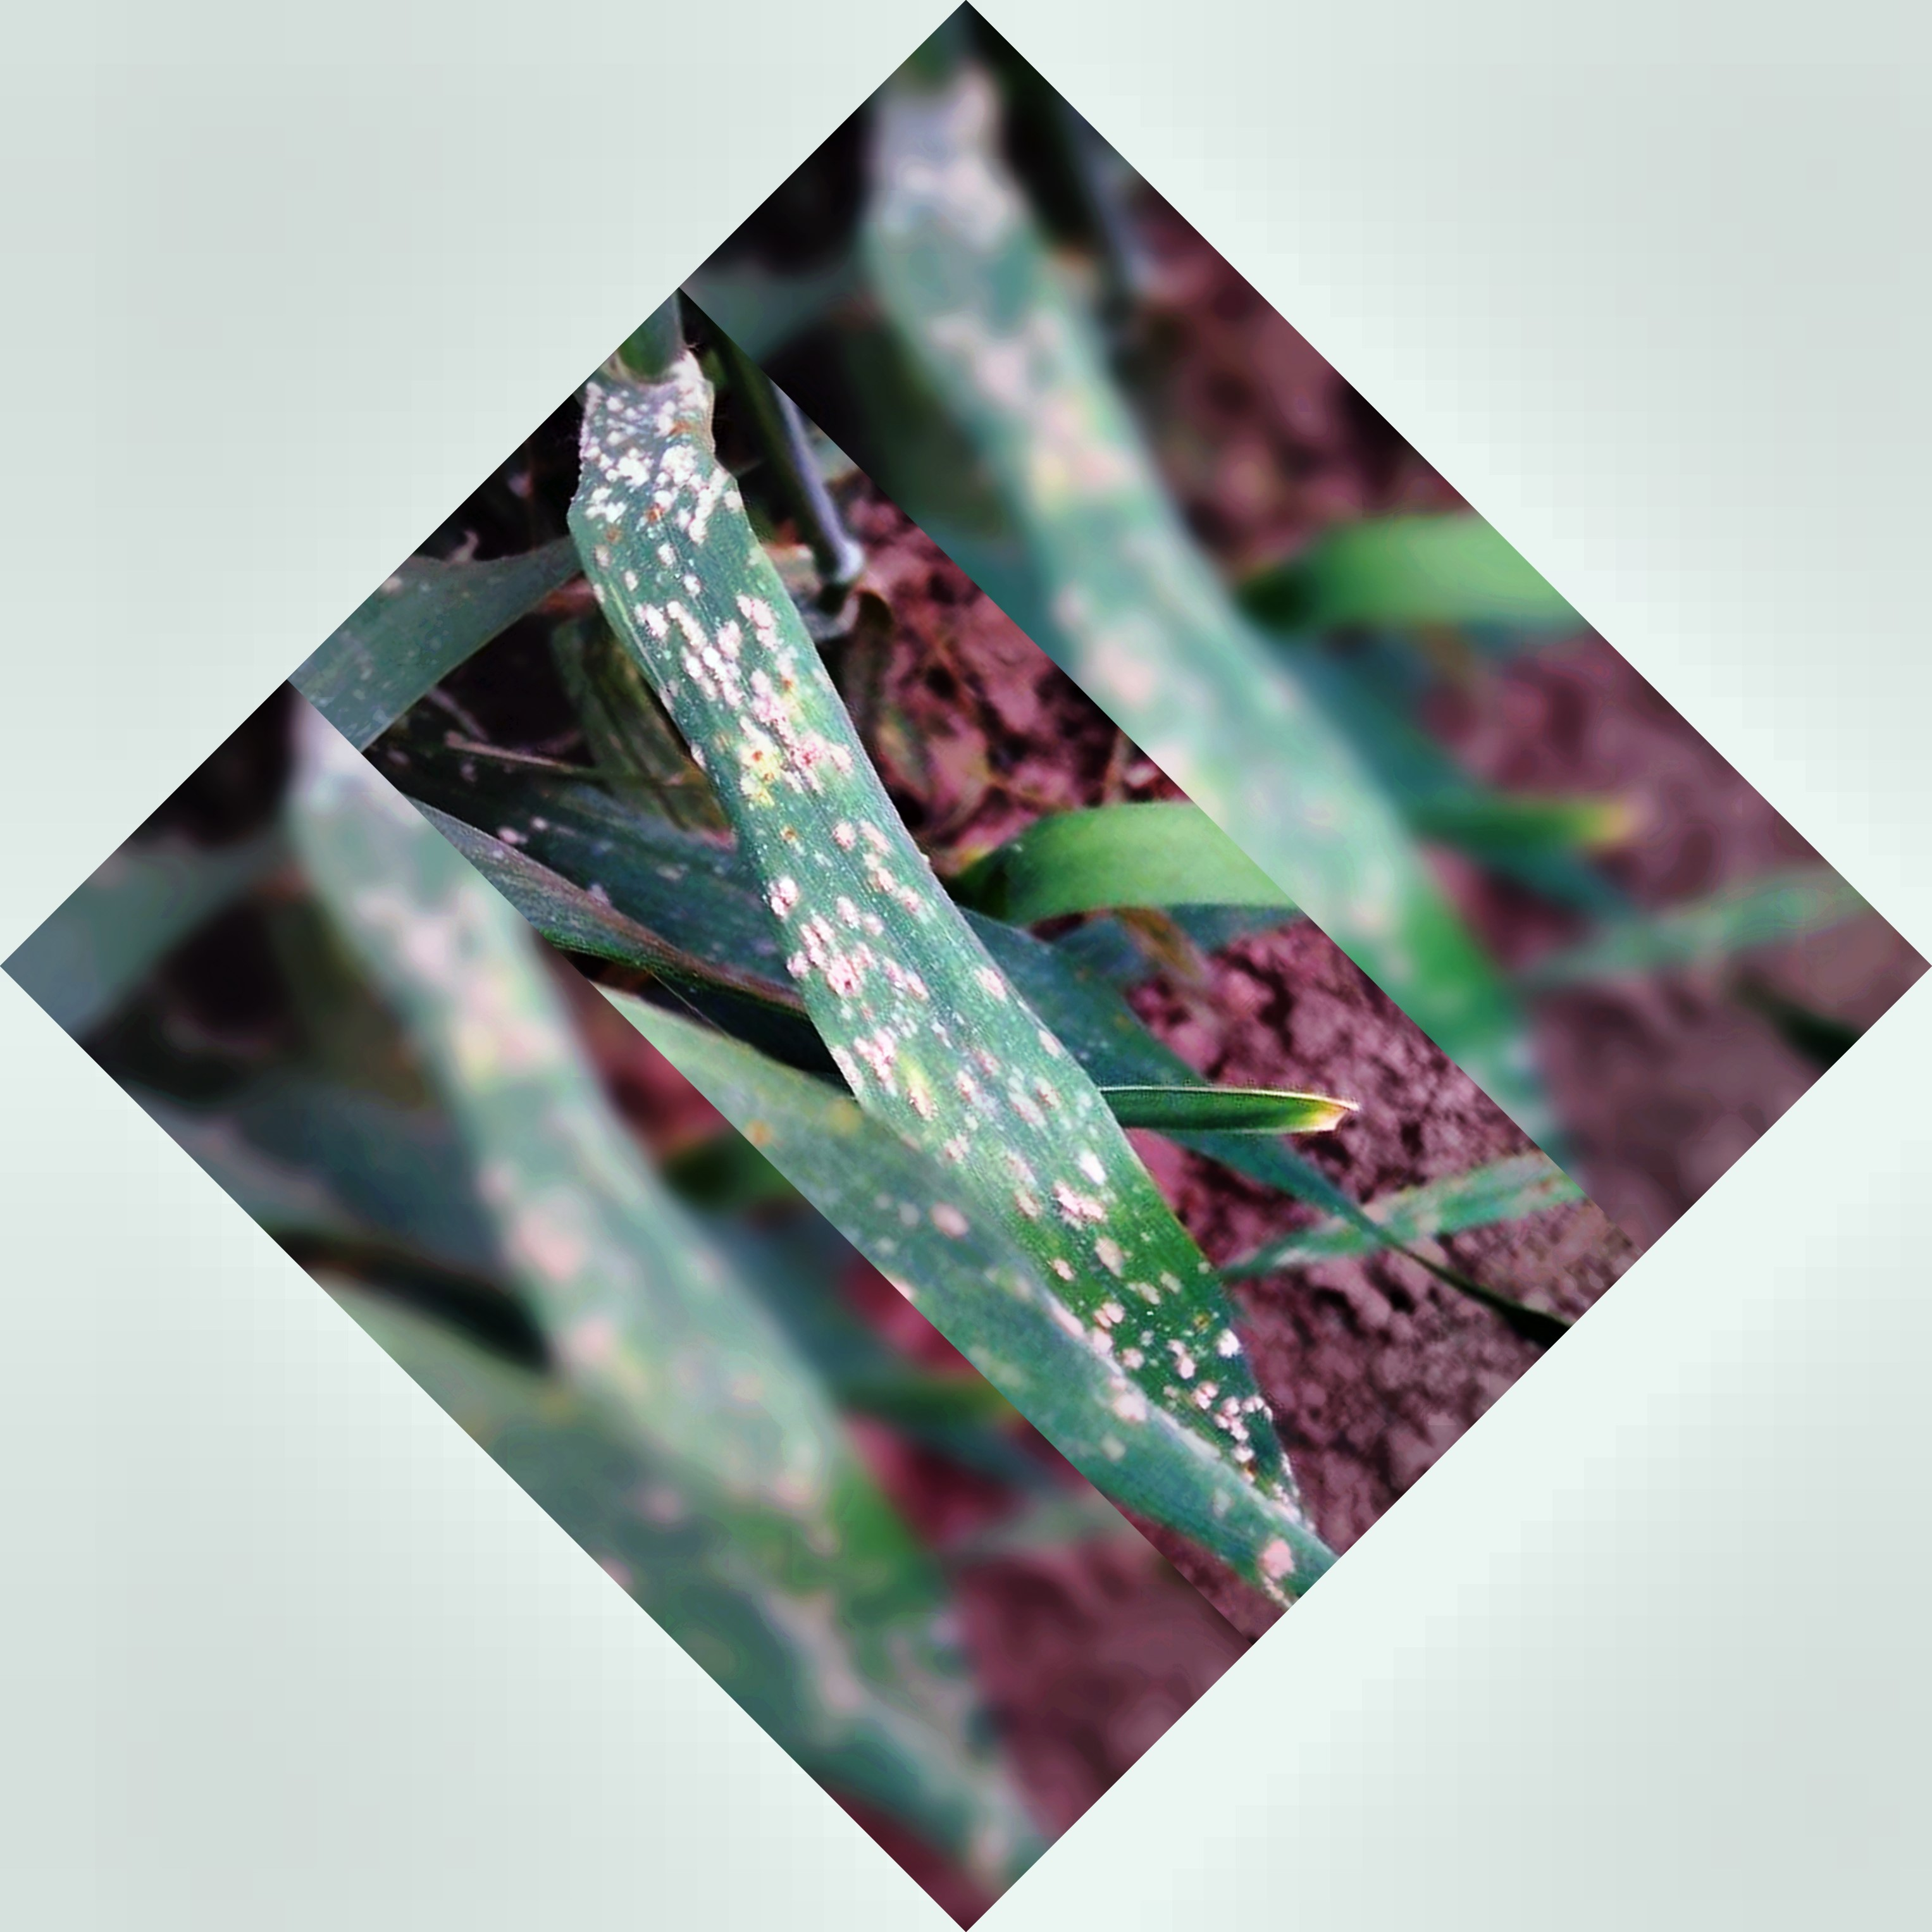Powdery Mildew: (580, 430, 1092, 1139)
